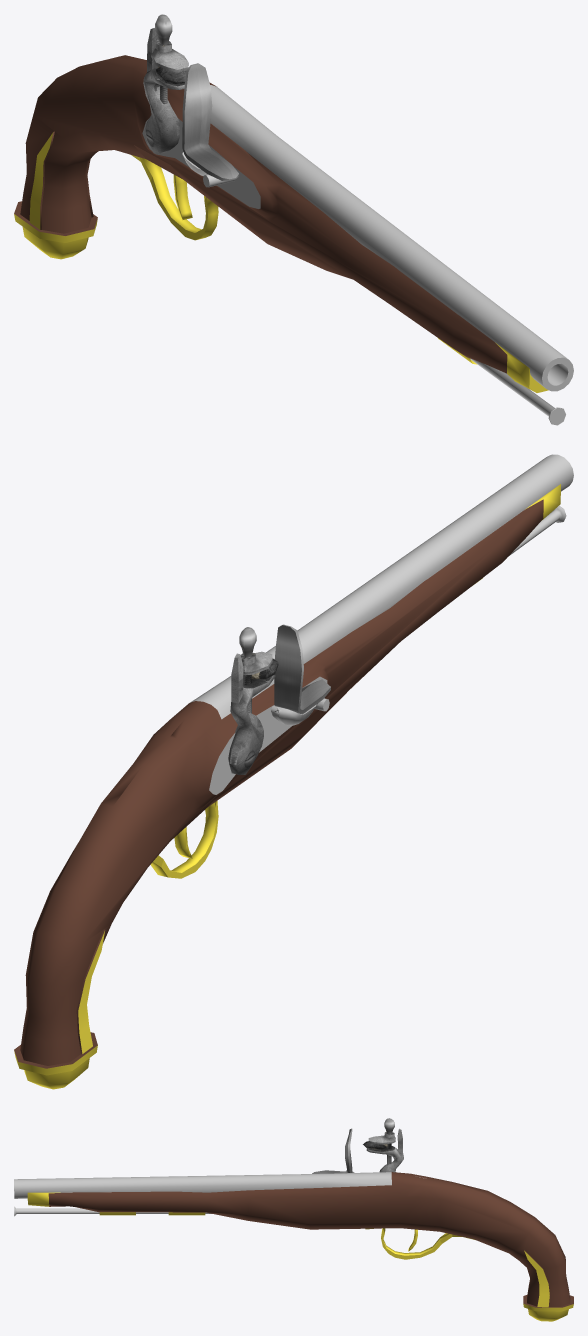
The model's file is Pistol.fbx.
3 views of the same model, one above another, from view 1: azimuth 30°, elevation 25°; view 2: azimuth 150°, elevation 25°; view 3: azimuth 270°, elevation 25° (orthographic). The views are drawn at different scales.
Visible parts, largest first — view 1: MusketBody, Cock, Frizzen, RammingRod, Trigger; view 2: MusketBody, Cock, Frizzen; view 3: MusketBody, Cock, RammingRod, Frizzen.
Part boxes in pixels (x1,y1,x2,y2): MusketBody: [14, 55, 573, 392]; Cock: [143, 14, 188, 153]; Frizzen: [182, 63, 239, 180]; RammingRod: [470, 358, 565, 425]; Trigger: [173, 174, 192, 219]; MusketBody: [14, 454, 573, 1089]; Cock: [228, 627, 278, 774]; Frizzen: [274, 624, 330, 714]; MusketBody: [14, 1171, 573, 1321]; Cock: [363, 1118, 403, 1172]; RammingRod: [14, 1206, 211, 1216]; Frizzen: [312, 1128, 352, 1173].
Size of the model in its own units: 0.1105 by 1.13 by 0.4176.
